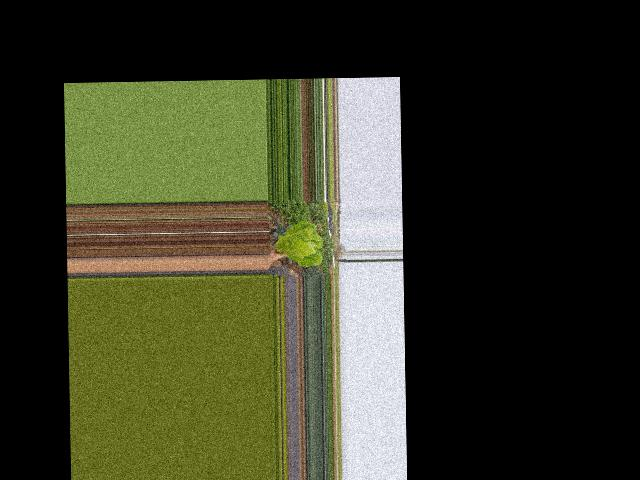lettuce: (271, 219, 323, 269)
